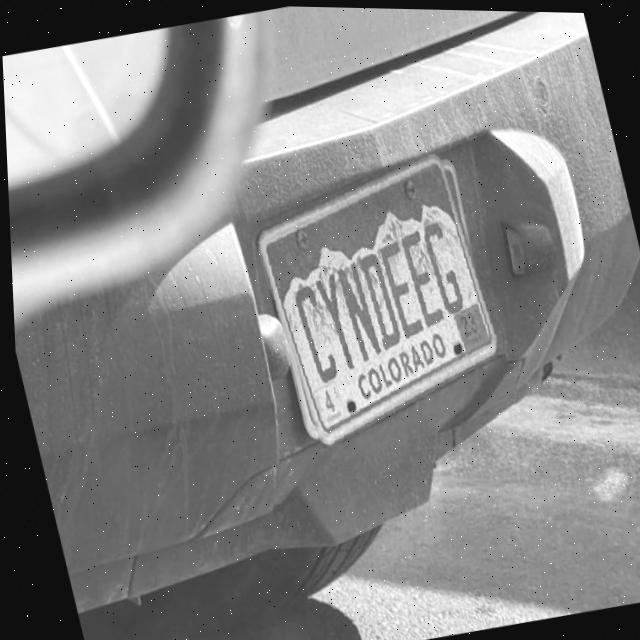LicensePlate: (254, 151, 499, 446)
